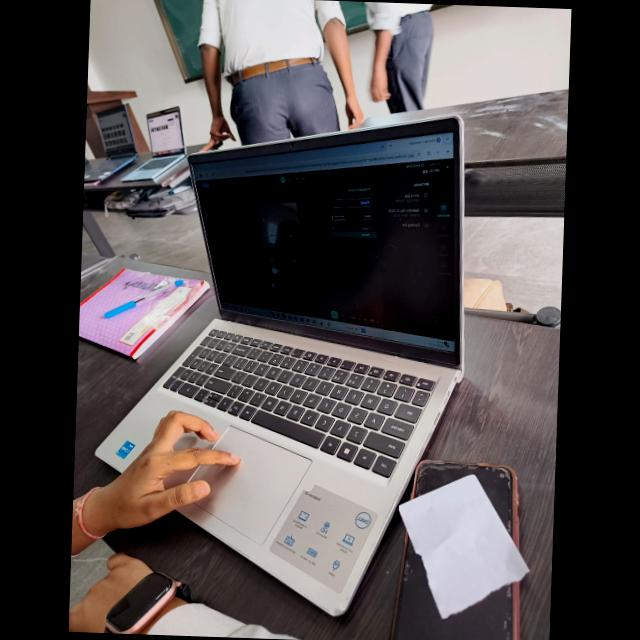laptop: (102, 104, 523, 608)
